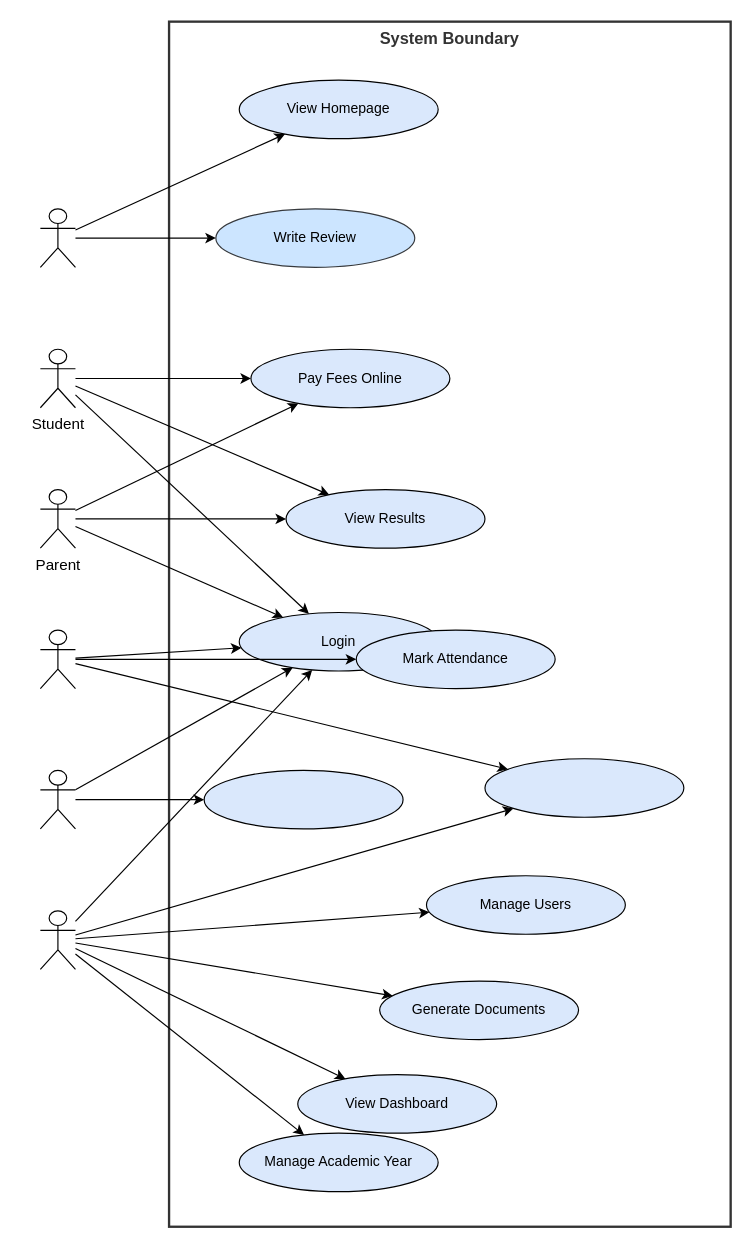
This 752x1247 diagram has some shape labels left out. Here are the shapes that lost their labels. From the top down, the centre of each, then its label:
At (x=57, y=237): "Visitor".
At (x=57, y=659): "Teacher".
At (x=57, y=799): "Accountant".
At (x=303, y=799): "Manage Fees".
At (x=584, y=787): "Manage Results".
At (x=57, y=939): "Admin".
